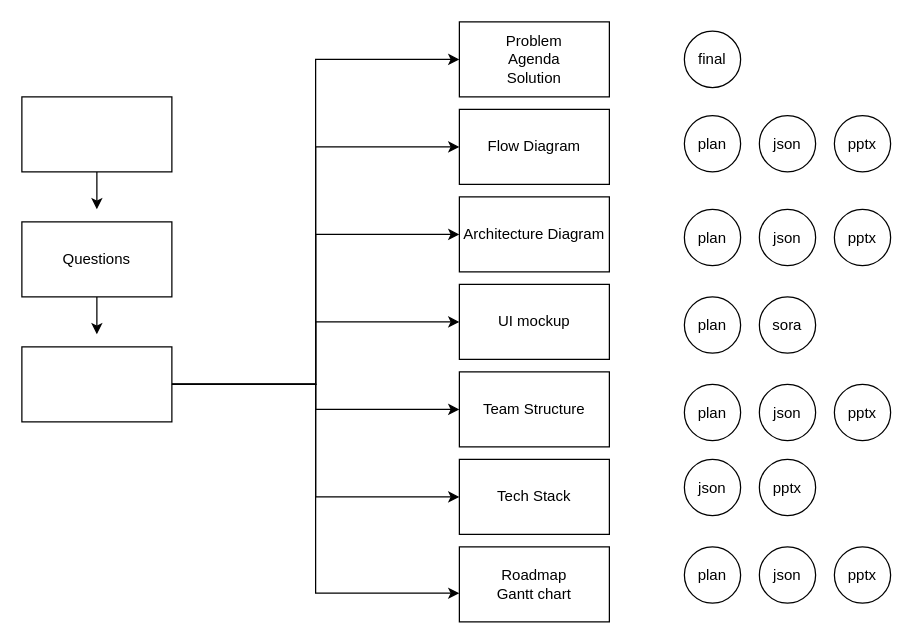
Some shapes in this 913 by 644 pixel diagram are drawn without their labels. The shapes that lost their labels are listed below. From the top down, each one's box as (x1, y1, x2, y2) in pixels, then its label:
(21, 96, 172, 172): Transcript
(21, 346, 172, 422): App flow
